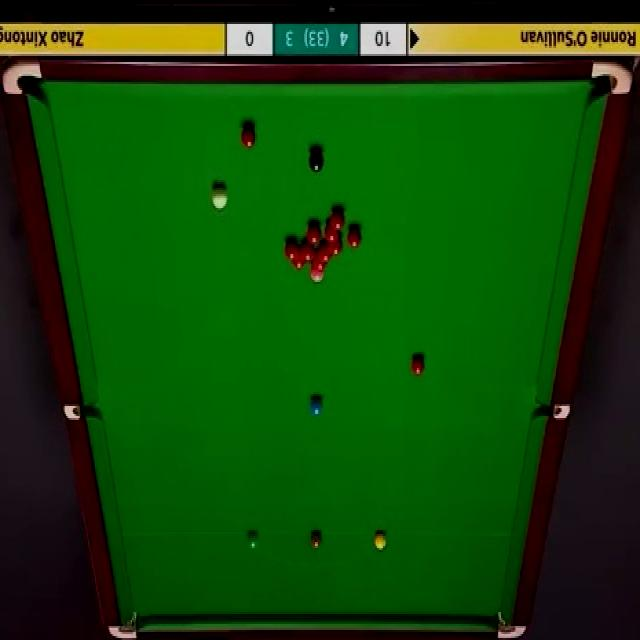pocket: (1, 55, 45, 100), (590, 61, 633, 94), (495, 606, 531, 640), (107, 608, 142, 640), (67, 405, 103, 420), (540, 405, 574, 420)
